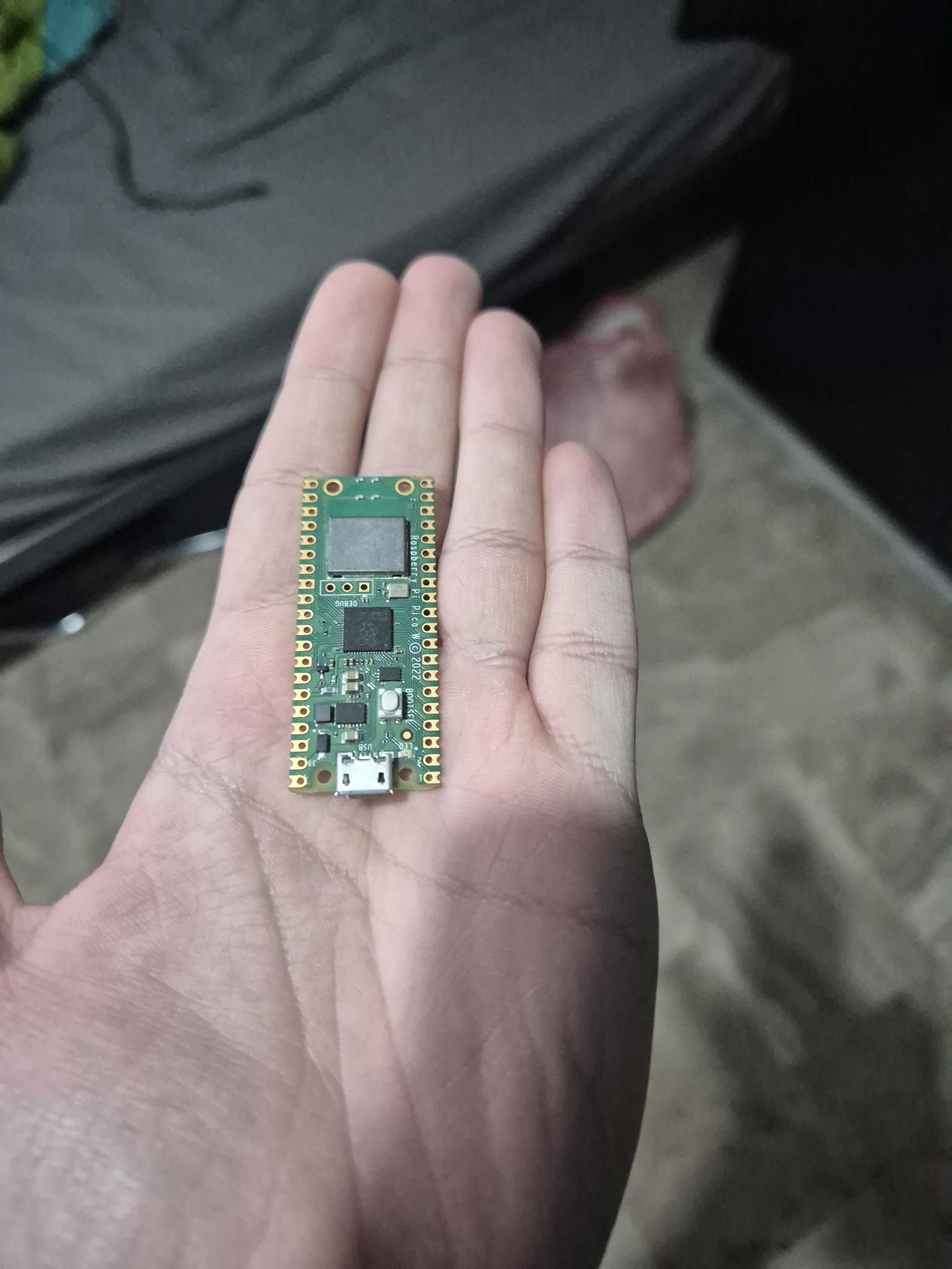raspberry-pi-pico-w: (290, 476, 440, 795)
